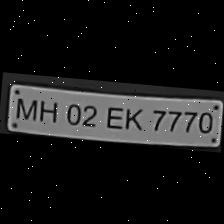0: (61, 98, 83, 126), (195, 107, 216, 135)
2: (79, 98, 101, 128)
7: (146, 105, 170, 133), (159, 106, 180, 134), (178, 107, 197, 134)
E: (102, 102, 126, 131)
H: (34, 96, 60, 124)
K: (121, 102, 146, 132)
M: (12, 92, 36, 121)
